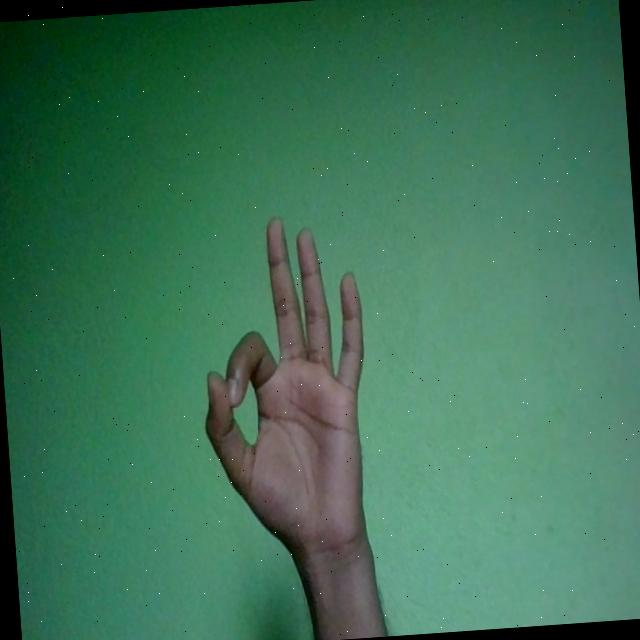Rock On: (191, 210, 380, 569)
